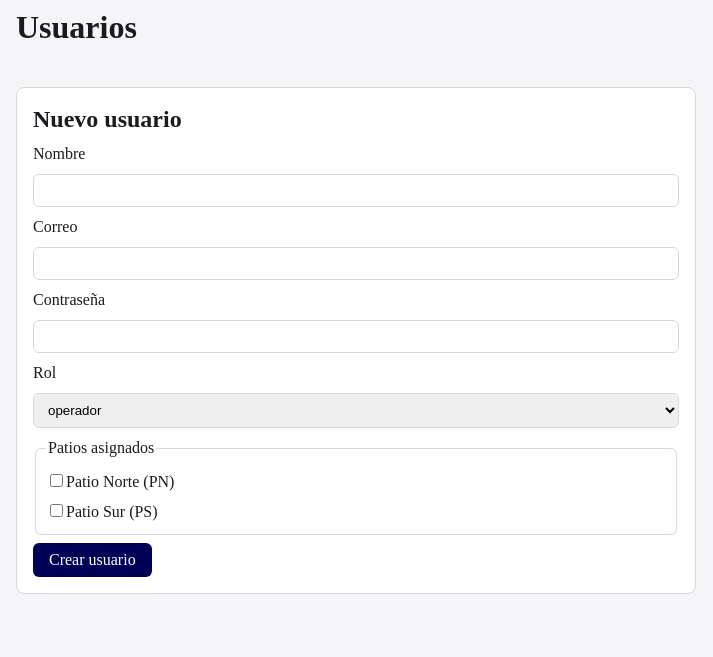
Test case: UsuariosPage › lets an admin create a usuario and refreshes the list
Expected: the button "Crear usuario" is shown, top-left (33, 543), bottom-right (152, 577)
Type "Ana Supervisora" into the field labelled "Nombre" at (356,190), box top-left (33, 174), bottom-right (679, 207)
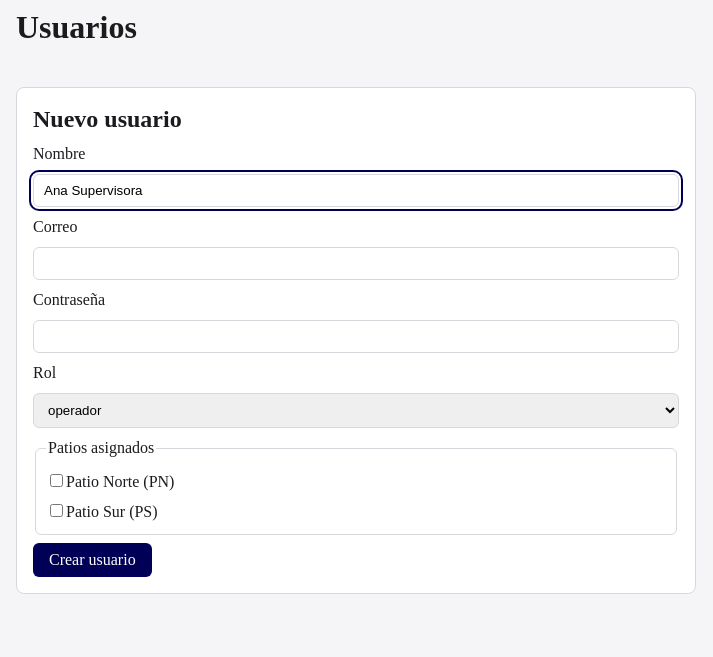
Type "ana@patio.mx" into the field labelled "Correo" at (356,264), box top-left (33, 247), bottom-right (679, 280)
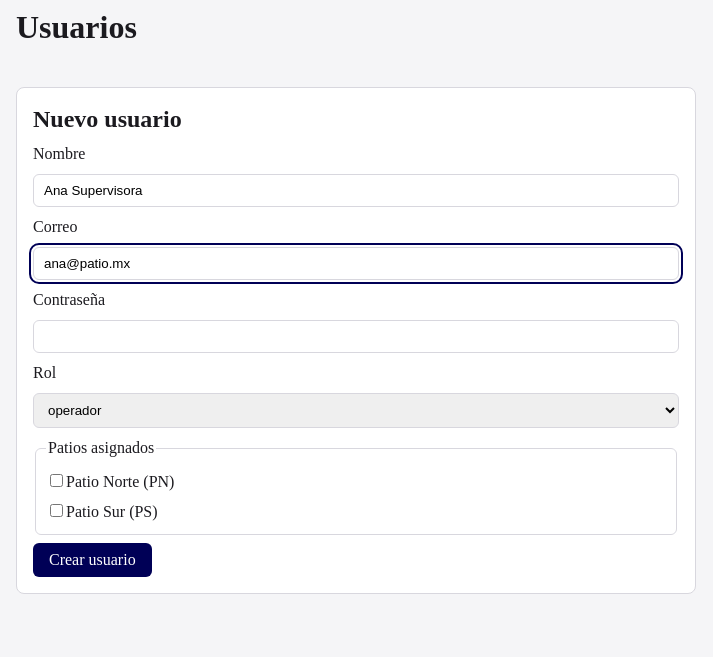
Type "clave1234" into the password field labelled "Contraseña" at (356,336), box top-left (33, 320), bottom-right (679, 353)
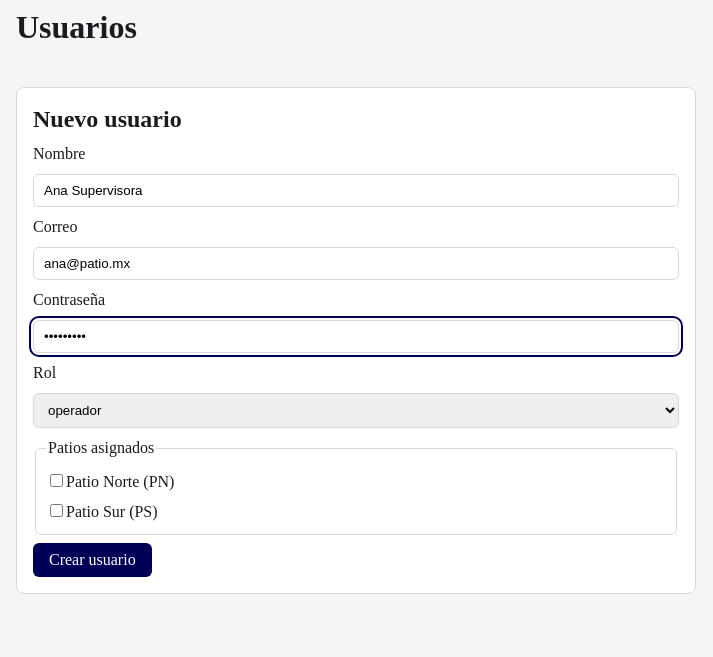
Select "supervisor" in the dropdown labelled "Rol" at (356,410), box top-left (33, 393), bottom-right (679, 428)
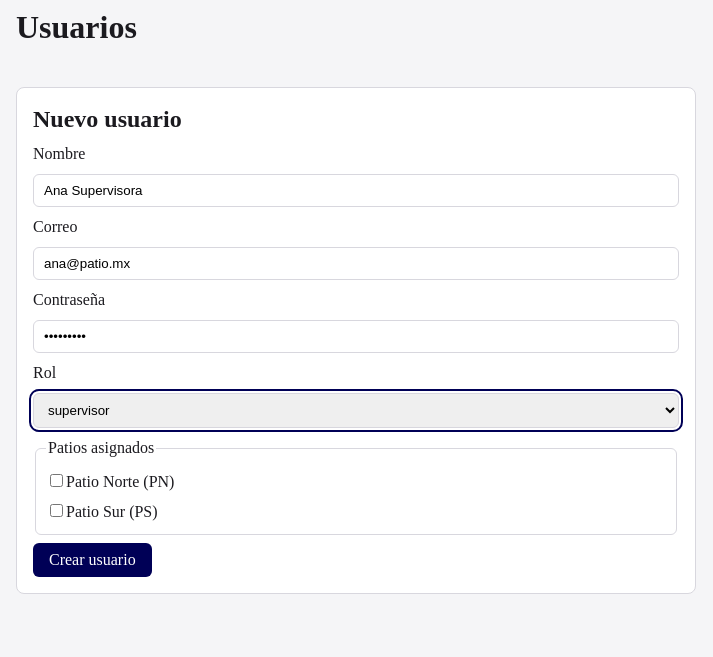
Click the checkbox labelled "Patio Norte (PN)" at (56,480), box top-left (50, 474), bottom-right (63, 487)
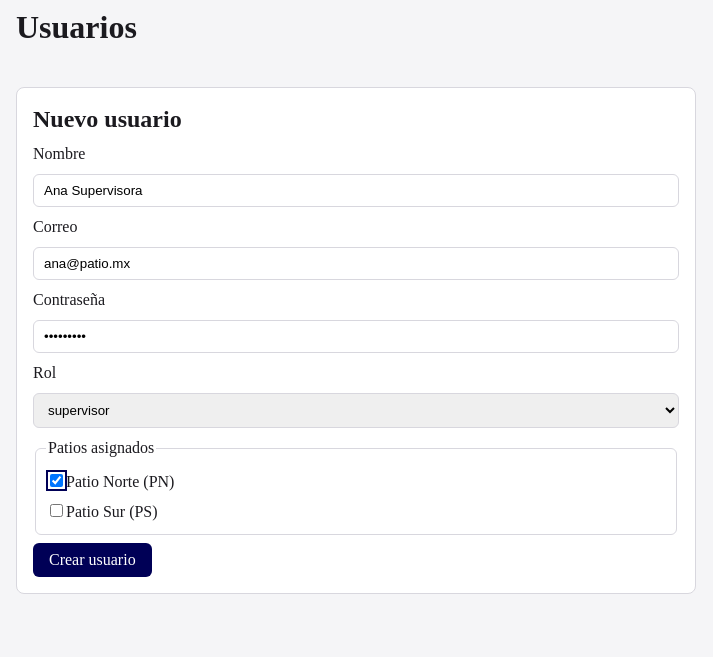
Click the button "Crear usuario" at (92,560), box top-left (33, 543), bottom-right (152, 577)
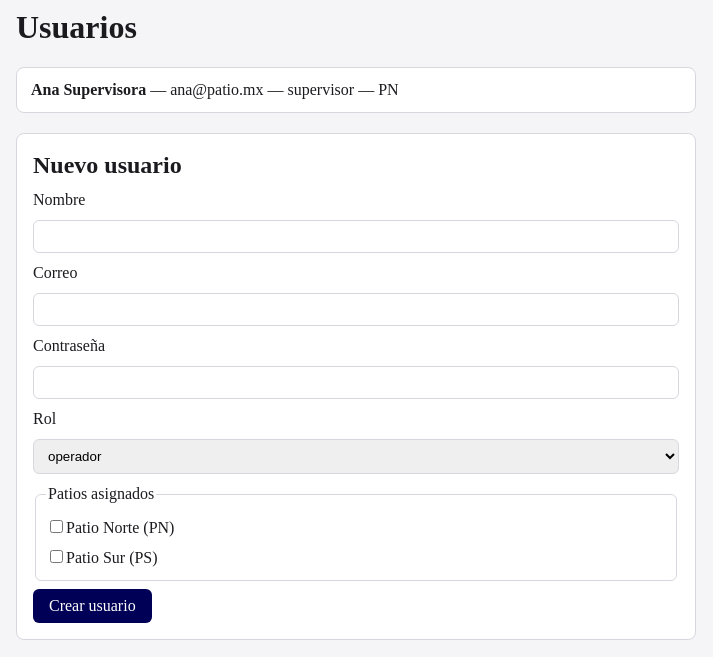
Expected: the text "Ana Supervisora" is shown, top-left (31, 81), bottom-right (146, 98)
